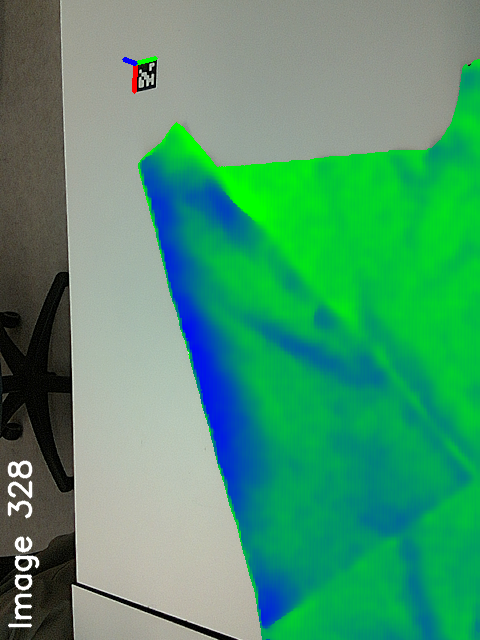V: (433, 449, 480, 498)
